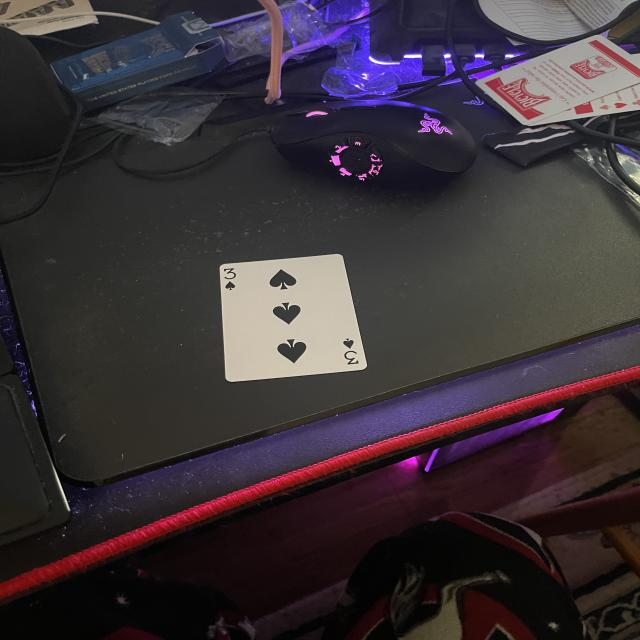3 of spades: (220, 257, 368, 383)
